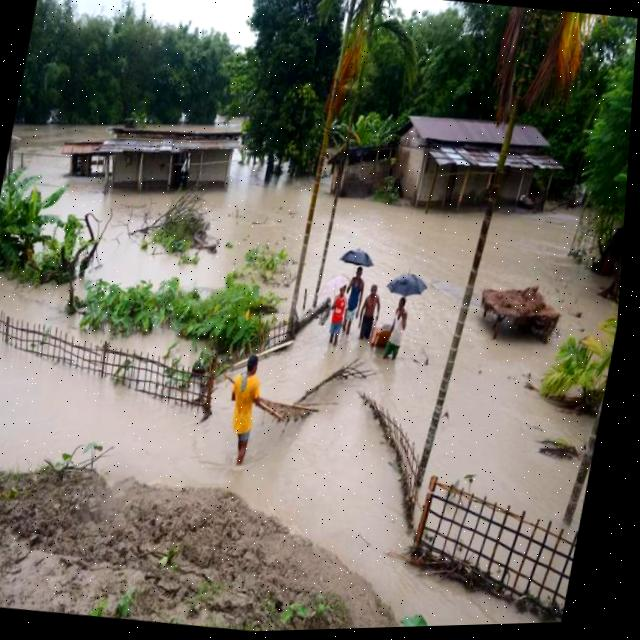civilian: (212, 350, 278, 470), (376, 294, 415, 365), (320, 279, 352, 351), (355, 276, 384, 344), (341, 265, 365, 335)
